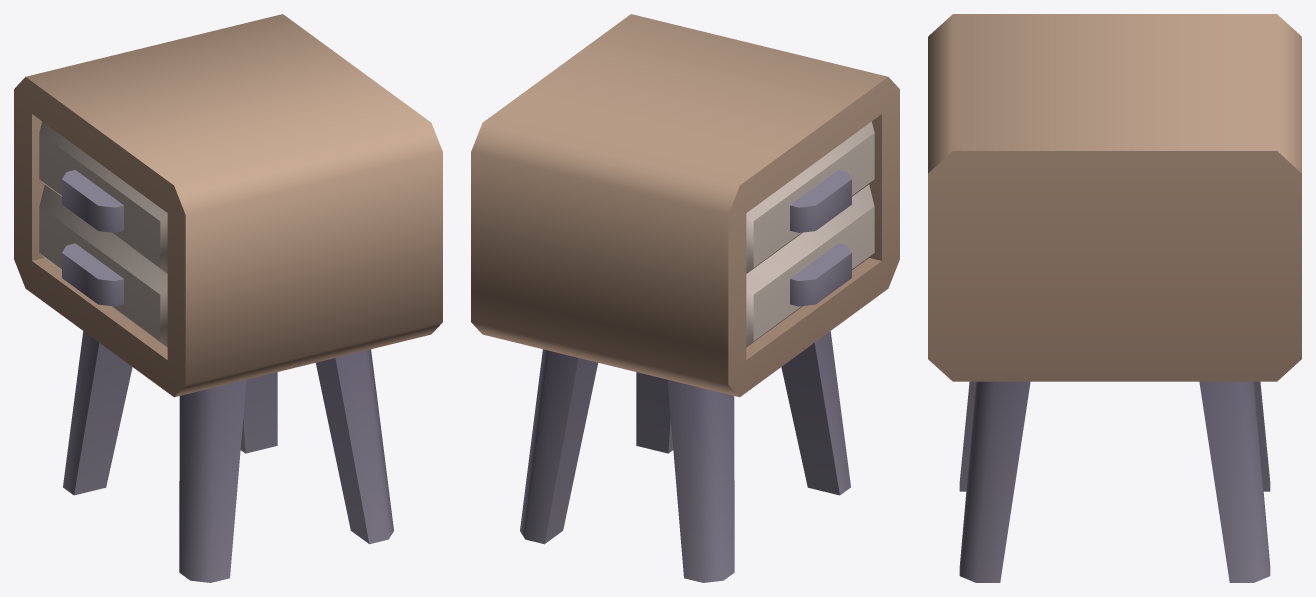
The model's file is nightstand-drawers.glb.
The picture shows the model from 3 angles, left to right: view 1: azimuth 30°, elevation 25°; view 2: azimuth 150°, elevation 25°; view 3: azimuth 270°, elevation 25°; orthographic projection. The views are drawn at different scales.
Parts seen in each view (by area): view 1: nightstand-drawers; view 2: nightstand-drawers; view 3: nightstand-drawers.
Boxes of the visible parts, x1,y1,x2,y2 form: nightstand-drawers: (14, 14, 442, 582); nightstand-drawers: (471, 14, 899, 582); nightstand-drawers: (928, 14, 1301, 582).
Size of the model in its own units: 0.323 by 0.456 by 0.346.
